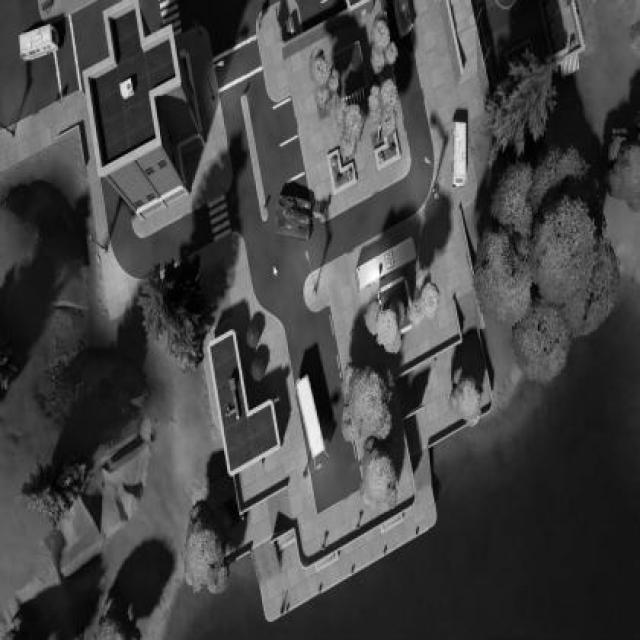tank: (274, 189, 313, 242)
